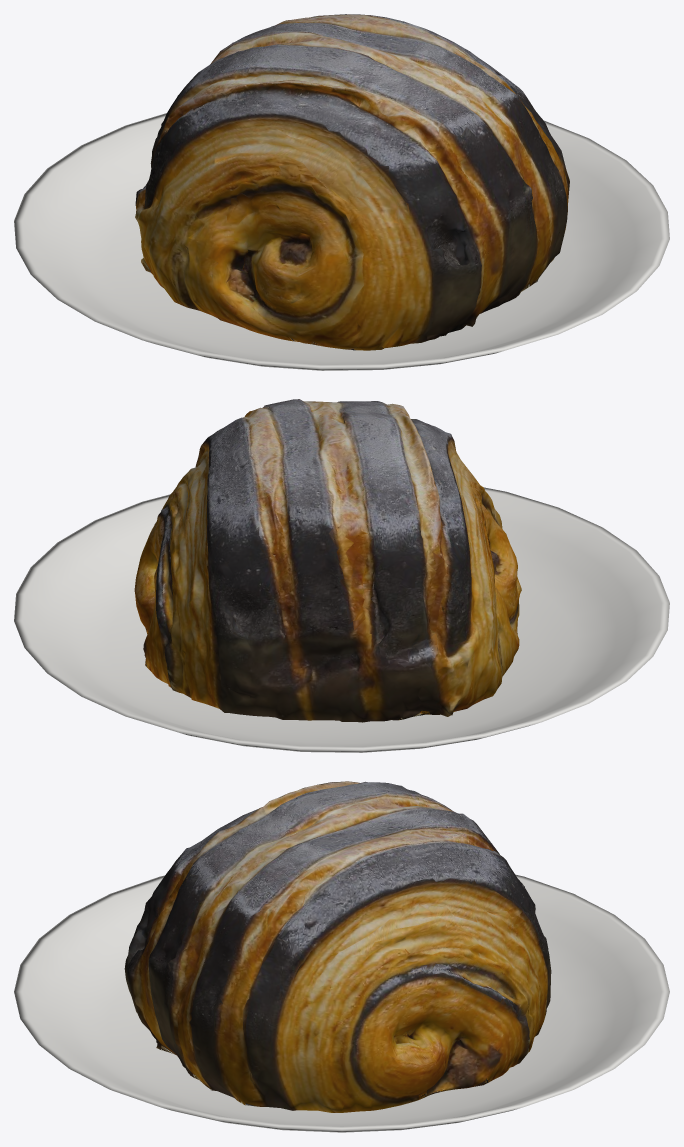
The model's file is choccroissant.glb.
3 renders of one model, top to bottom at view 1: azimuth 30°, elevation 25°; view 2: azimuth 150°, elevation 25°; view 3: azimuth 270°, elevation 25°, orthographic.
Visible parts, largest first — view 1: ChocCroissant, Plate; view 2: ChocCroissant, Plate; view 3: ChocCroissant, Plate.
Part boxes in pixels (x1,y1,x2,y2): ChocCroissant: [135, 14, 569, 350]; Plate: [14, 113, 669, 370]; ChocCroissant: [134, 399, 521, 722]; Plate: [14, 487, 669, 752]; ChocCroissant: [124, 781, 551, 1112]; Plate: [14, 874, 669, 1132].
Size of the model in its own units: 0.2 by 0.08 by 0.2.
Materials: 2 (1 with a texture image).
